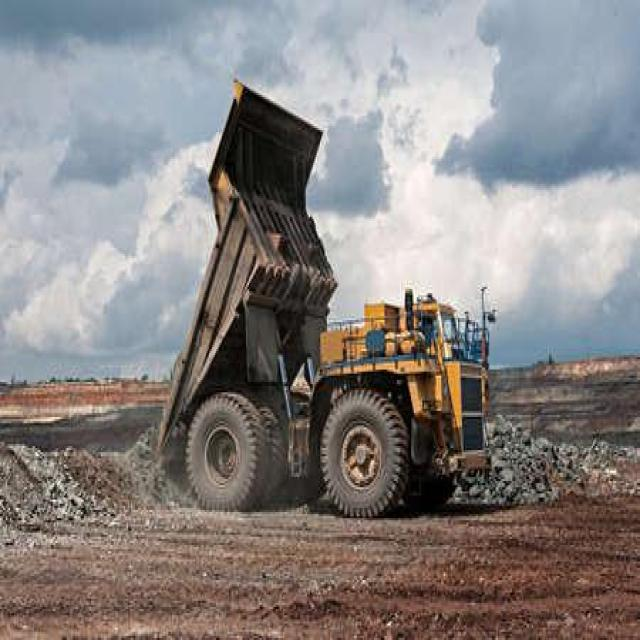Camion volquete: (151, 72, 494, 526)
